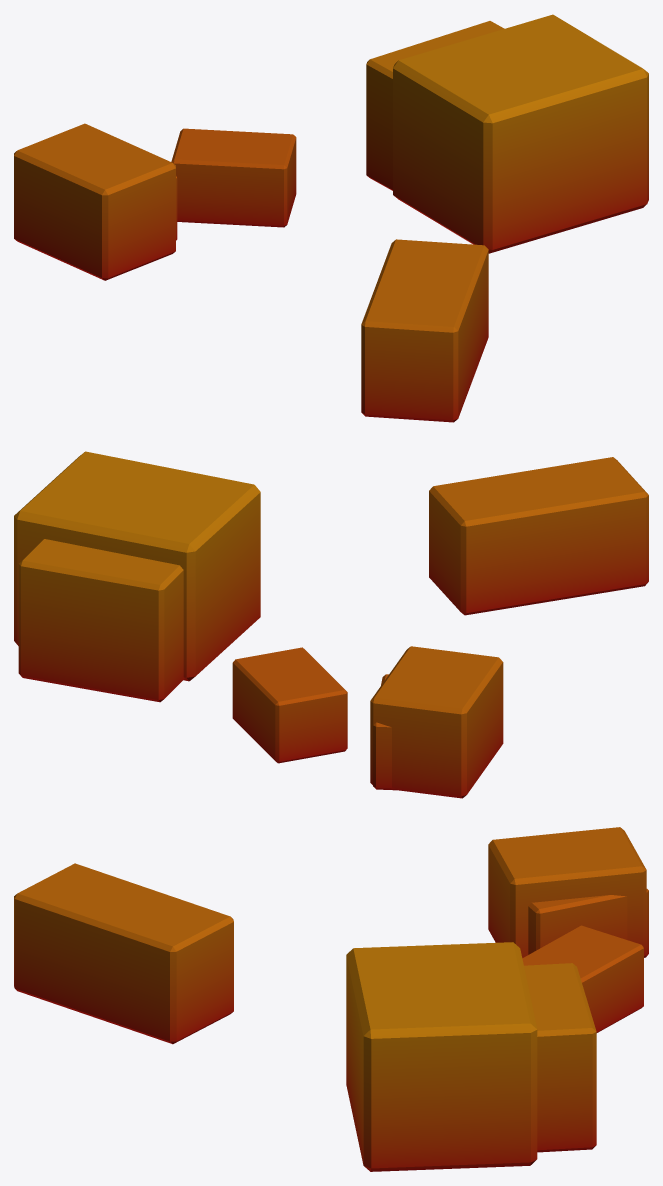
File: rubble_2.glb
3 views of the same model, one above another, from view 1: azimuth 30°, elevation 25°; view 2: azimuth 150°, elevation 25°; view 3: azimuth 270°, elevation 25° (orthographic). The views are drawn at different scales.
Parts seen in each view (by area): view 1: rubble_2; view 2: rubble_2; view 3: rubble_2.
Boxes of the visible parts, left/top/right/bottom form: rubble_2: left=14, top=14, right=648, bottom=422; rubble_2: left=14, top=451, right=648, bottom=798; rubble_2: left=14, top=827, right=648, bottom=1171.
Size of what is drawn, in the model's own units: 2.28 by 0.5895 by 2.38.
